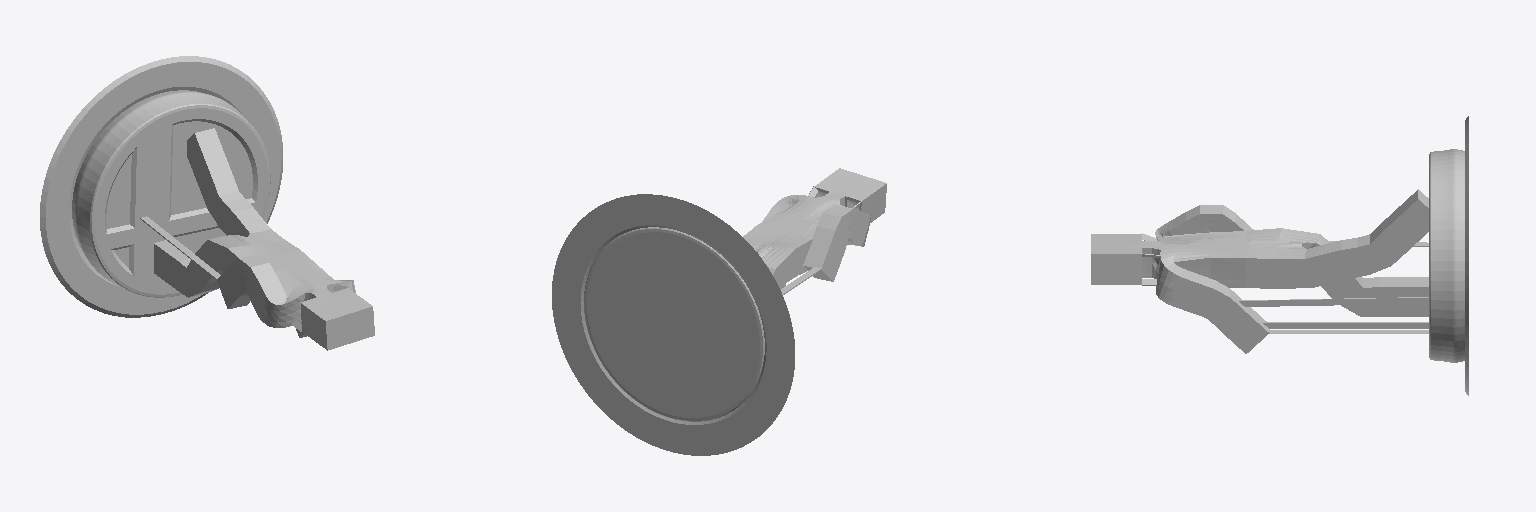
The model's file is Test 3 Amiibo v2.obj.
3 views of the same model, side by side, from view 1: azimuth 30°, elevation 25°; view 2: azimuth 150°, elevation 25°; view 3: azimuth 270°, elevation 25° (orthographic).
Visible parts, largest first — view 1: Base_Mesh.012, Cube_Cube.001, Plane, Additions_Cube.003; view 2: Base_Mesh.012, Plane, Cube_Cube.001; view 3: Cube_Cube.001, Base_Mesh.012, Additions_Cube.003, Plane.
Part boxes in pixels (x1,y1,x2,y2): Base_Mesh.012: (72,90,270,297); Cube_Cube.001: (154,128,374,350); Plane: (40,56,282,317); Additions_Cube.003: (140,216,348,331); Base_Mesh.012: (584,227,764,421); Plane: (552,194,794,455); Cube_Cube.001: (743,168,886,289); Cube_Cube.001: (1091,189,1428,353); Base_Mesh.012: (1429,149,1464,362); Additions_Cube.003: (1142,233,1428,333); Plane: (1465,116,1468,395).
Bounding box in the file's own units: 60 × 60 × 80.5.